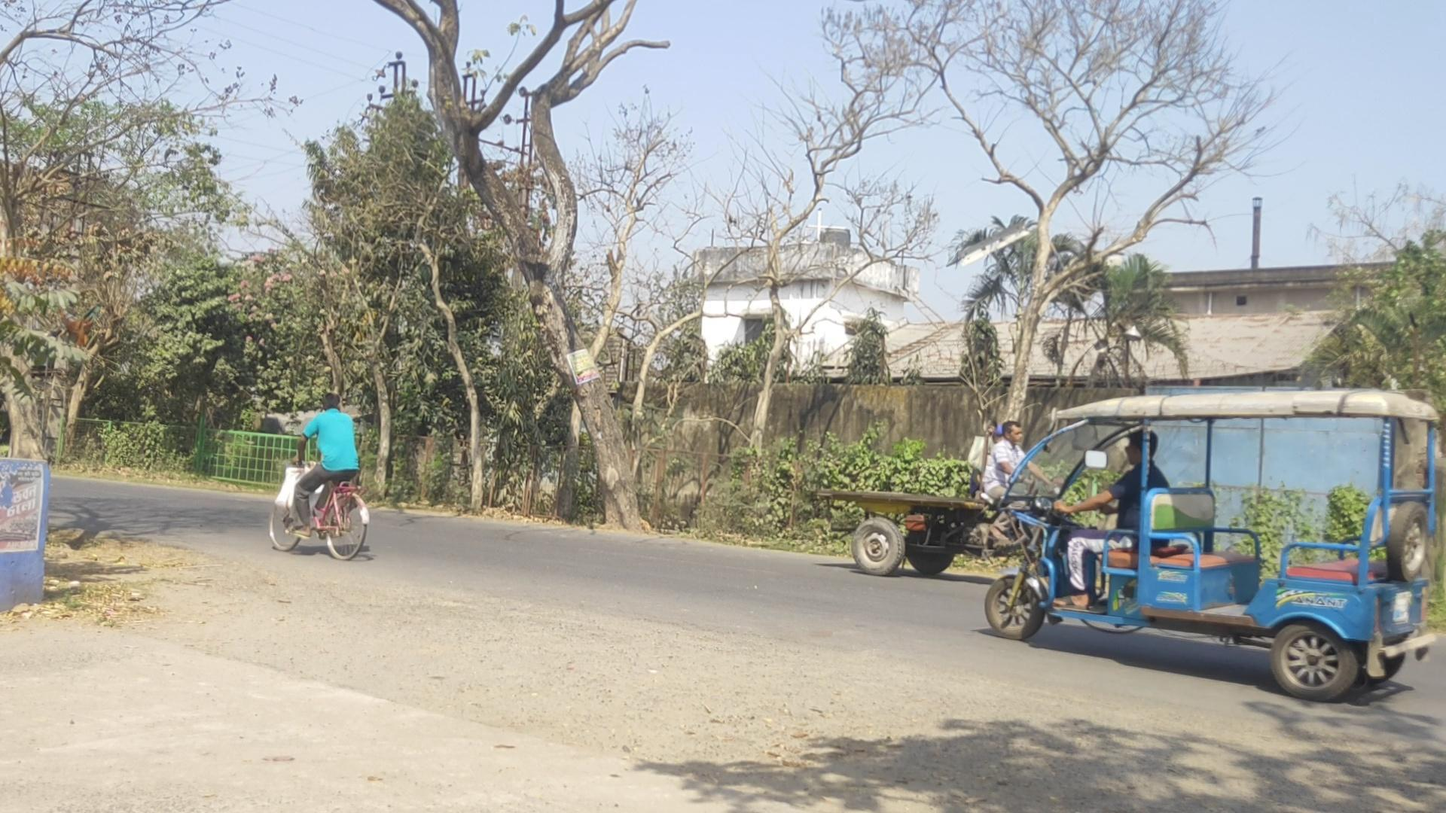Auto: (985, 390, 1438, 701)
bike: (268, 392, 370, 562)
